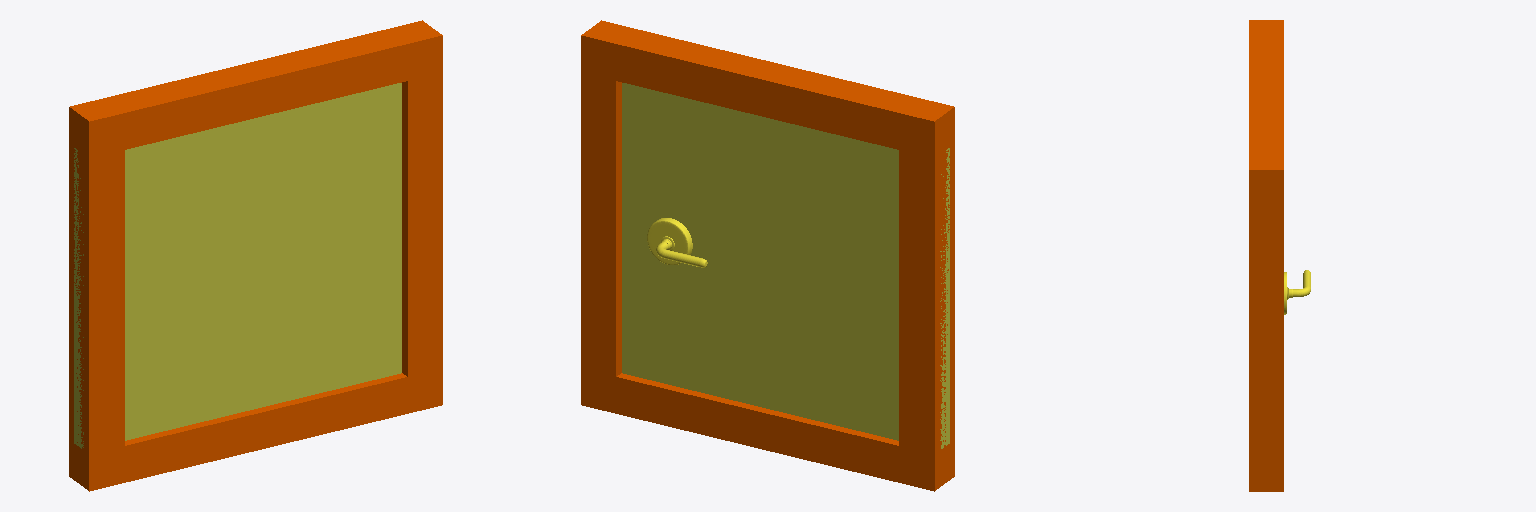
URDF robot description (urdf_door):
<?xml version="0.0" ?>
<robot name="urdf_door">
    <link name="world"/>

    <joint name="fixed" type="fixed">
        <parent link="world"/>
        <child link="baseLink"/>
        <origin xyz="0 0 0"/>
    </joint>

    <link name="baseLink">
        <inertial>
            <origin rpy="0 0 0" xyz="0 0 0.35"/>
            <mass value="1.0"/>
            <inertia ixx="0.1" ixy="0" ixz="0" iyy="0.1" iyz="0" izz="0.1"/>
        </inertial>
        <visual>
            <origin rpy="0 0 0" xyz="0.05 0 0.5"/>
            <geometry>
                <box size="0.1 0.1 1"/>
            </geometry>
	        <material name="framemat0">
                <color rgba="0.9 0.4 0. 1" />
            </material>
        </visual>
        <visual>
            <origin rpy="0 0 0" xyz="0.95 0 0.5"/>
            <geometry>
                <box size="0.1 0.1 1"/>
            </geometry>
	        <material name="framemat0"/>	 
        </visual>
        <visual>
            <origin rpy="0 0 0" xyz="0.5 0 0.95"/>
            <geometry>
                <box size="1 0.1 0.1"/>
            </geometry>
	        <material name="framemat0"/>
	    </visual>
        <visual>
            <origin rpy="0 0 0" xyz="0.5 0 0.05"/>
            <geometry>
                <box size="1 0.1 0.1"/>
            </geometry>
	        <material name="framemat0"/>
	    </visual>
        <collision>
            <origin rpy="0 0 0" xyz="0.05 0 0.5"/>
            <geometry>
                <box size="0.1 0.1 1"/>
            </geometry>
        </collision>
        <collision>
            <origin rpy="0 0 0" xyz="0.95 0 0.5"/>
            <geometry>
                <box size="0.1 0.1 1"/>
            </geometry>
        </collision>
        <collision>
            <origin rpy="0 0 0" xyz="0.5 0 0.95"/>
            <geometry>
                <box size="1 0.1 0.1"/>
            </geometry>
        </collision>
        <collision>
            <origin rpy="0 0 0" xyz="0.5 0 0.05"/>
            <geometry>
                <box size="1 0.1 0.1"/>
            </geometry>
        </collision> 
    </link>

    <link name="childA">
        <inertial>
            <origin rpy="0 0 0" xyz="0.4 0 0.4"/>
            <mass value="0.1"/>
            <inertia ixx="0.0048966669" ixy="0" ixz="0" iyy="0.0046466667" iyz="0" izz="0.00041666669"/>
        </inertial>
        <visual>
            <origin rpy="0 0 0" xyz="0.4 0 0.4"/>
            <geometry>
                <box size="0.9  0.05 0.8"/>
            </geometry>
	        <material name="doormat0">
                <color rgba="0.8 0.8 0.3 1" />
            </material>
	    </visual>
        <collision>
            <origin rpy="0 0 0" xyz="0.4 0 0.4"/>
            <geometry>
                <box size="0.9  0.05 0.8"/>
            </geometry>
        </collision>
    </link>

    <joint name="joint_baseLink_childA" type="continuous">
        <parent link="baseLink"/>
        <child link="childA"/>
	    <dynamics damping="1.0" friction="0.0001"/>
        <origin xyz="0.05 0 0.1"/>
        <axis xyz="0 0 1"/>
        <limit lower="0.0" upper="1.570796"/>
    </joint>

    <link name="doorknob">
        <contact>
            <lateral_friction value="100.0"/>
            <spinning_friction value=".001"/>
        </contact>
        <inertial>
            <origin rpy="0 0 0" xyz="0.35 0.025 0.2"/>
            <mass value="0.01"/>
            <inertia ixx="0.00049" ixy="0" ixz="0" iyy="0.00046" iyz="0" izz="0.00042"/>
        </inertial>
        <visual>
            <origin rpy="0 0 0" xyz="0.35 0.025 0.2"/>
            <geometry>
                <mesh filename="meshes/doorknob_1.obj"/>
            </geometry>
        </visual>
        <collision>
            <origin rpy="0 0 0" xyz="0.35 0.025 0.2"/>
            <geometry>
                <mesh filename="meshes/doorknob_1.obj"/>
            </geometry>
        </collision>
    </link>

    <joint name="joint_childA_doorknob" type="fixed">
        <parent link="childA"/>
        <child link="doorknob"/>
        <origin xyz="0.35 0.025 0.2"/>
    </joint>
</robot>

--- What the picture shows (computed from the rendered views, not written in the file) ---
The picture shows the robot from 3 angles, left to right: view 1: azimuth 30°, elevation 25°; view 2: azimuth 150°, elevation 25°; view 3: azimuth 270°, elevation 25°; orthographic projection.
Robot: urdf_door — 4 links, 3 joints (1 continuous, 2 fixed); root link world; default pose: every joint at zero.
Visible links, largest first — view 1: childA, baseLink; view 2: childA, baseLink, doorknob; view 3: baseLink.
Link boxes in pixels (x1,y1,x2,y2): childA: (74, 83, 401, 448); baseLink: (69, 20, 442, 491); childA: (622, 83, 949, 448); baseLink: (581, 20, 954, 491); doorknob: (647, 218, 707, 267); baseLink: (1249, 20, 1283, 491).
Bounding box of the posed robot: 1 × 0.1766 × 1 m (x, y, z).
1 mesh visuals loaded from 1 distinct referenced files (1 OBJ).